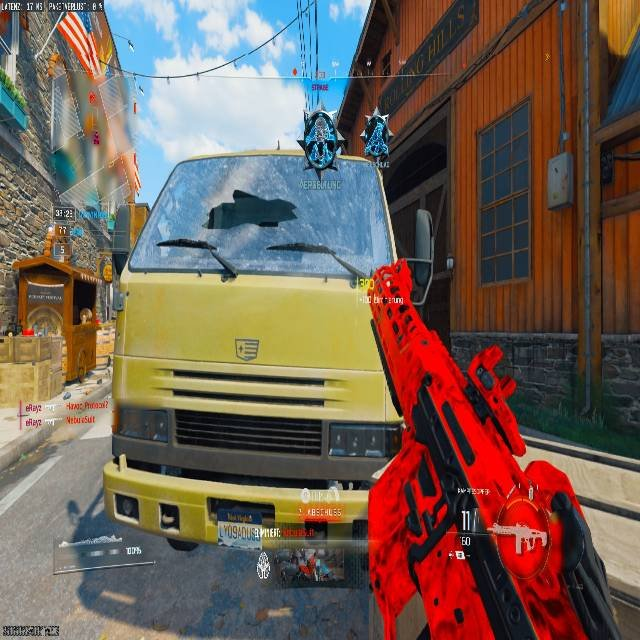player: (303, 107, 340, 169)
